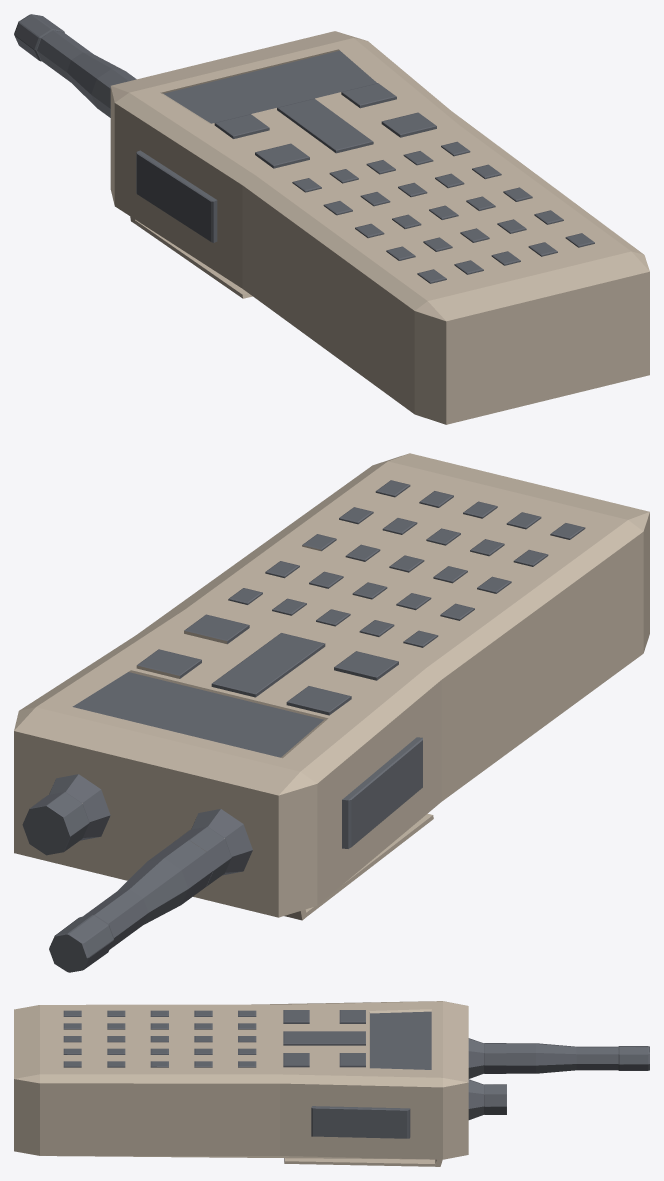
File: radio_ud.fbx
The picture shows the model from 3 angles, top to bottom: view 1: azimuth 30°, elevation 25°; view 2: azimuth 150°, elevation 25°; view 3: azimuth 270°, elevation 25°; orthographic projection. The views are drawn at different scales.
Visible parts, largest first — view 1: Cube.001; view 2: Cube.001; view 3: Cube.001.
Boxes of the visible parts, x1=… form: Cube.001: x1=14, y1=14, x2=649, y2=424; Cube.001: x1=14, y1=453, x2=649, y2=972; Cube.001: x1=14, y1=1001, x2=649, y2=1166.
Bounding box in the file's own units: 49.25 × 23.61 × 149.
